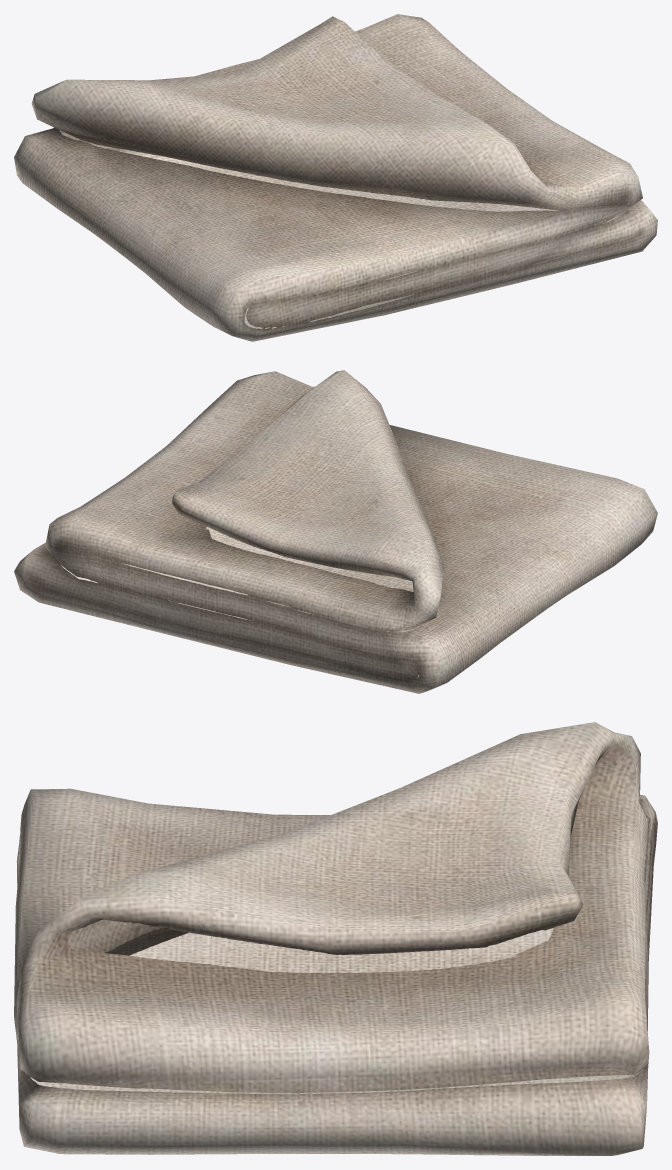
The picture shows the model from 3 angles, top to bottom: view 1: azimuth 30°, elevation 25°; view 2: azimuth 150°, elevation 25°; view 3: azimuth 270°, elevation 25°; orthographic projection. The views are drawn at different scales.
Visible parts, largest first — view 1: SM_Mystic_Cloth_01_LOD0; view 2: SM_Mystic_Cloth_01_LOD0; view 3: SM_Mystic_Cloth_01_LOD0.
Boxes of the visible parts, bbox=[...] form: SM_Mystic_Cloth_01_LOD0: bbox=[14, 14, 657, 341]; SM_Mystic_Cloth_01_LOD0: bbox=[14, 370, 657, 693]; SM_Mystic_Cloth_01_LOD0: bbox=[14, 722, 657, 1155].
Bounding box in the file's own units: 0.5574 × 0.1525 × 0.4905.
Materials: 1 (1 with a texture image).
